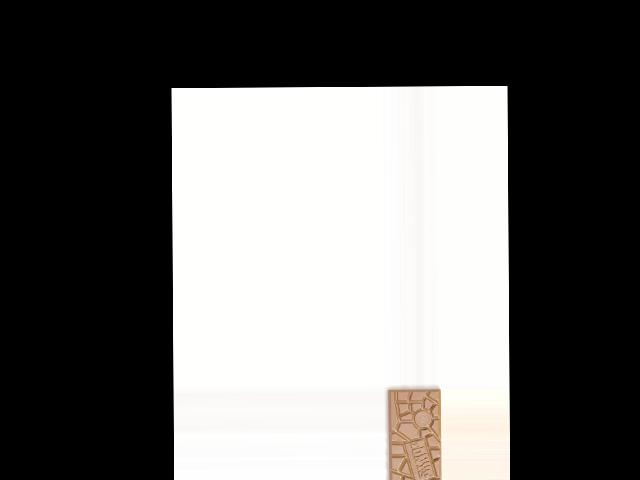chocolate: (385, 388, 441, 480)
